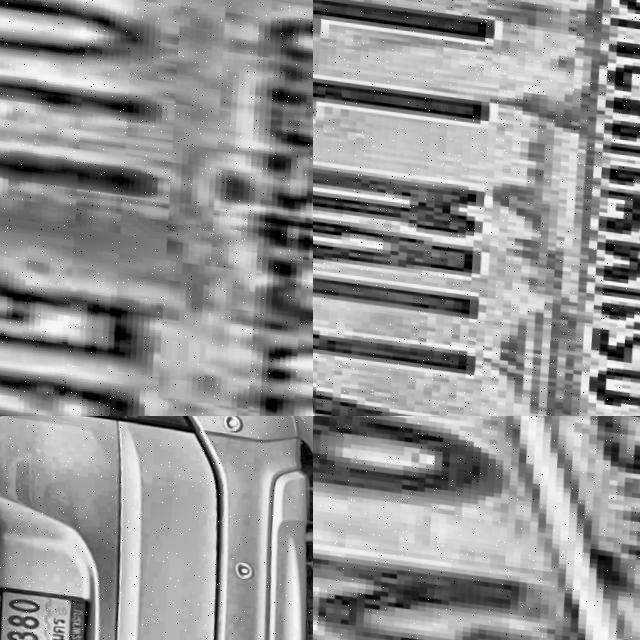license-plate: (313, 0, 640, 416), (0, 0, 313, 416), (313, 416, 640, 640), (0, 578, 95, 640)
